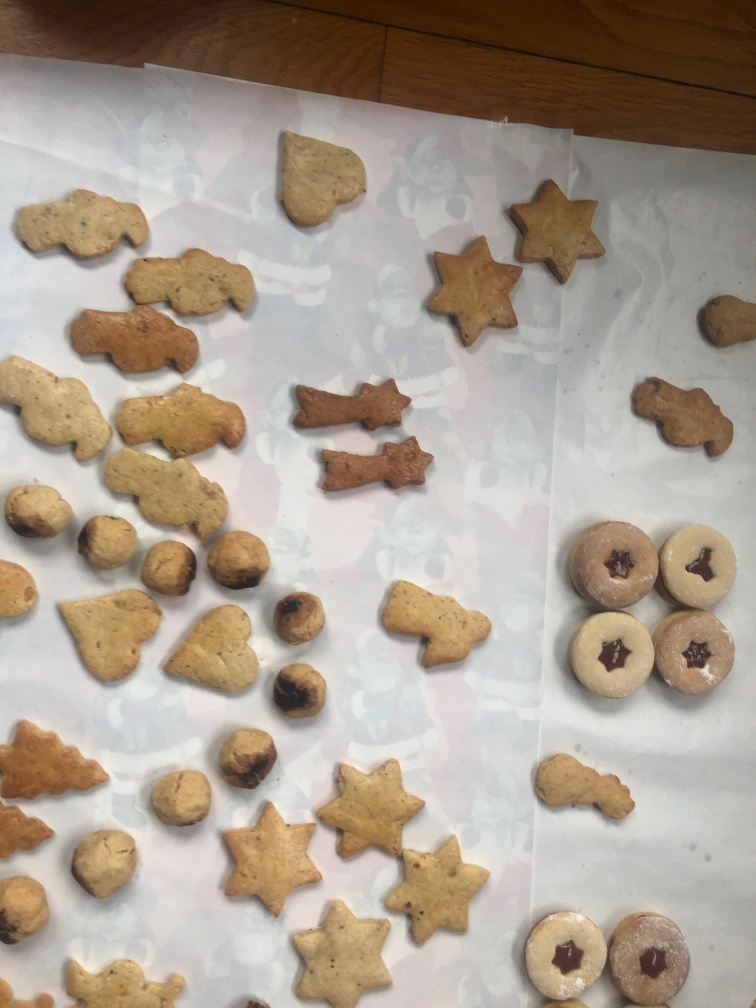angel: (375, 575, 503, 671)
christmas shortbread with jam: (602, 910, 696, 1008), (516, 905, 604, 1005), (565, 606, 656, 699), (567, 513, 654, 610), (654, 604, 740, 701), (658, 520, 739, 611)
christmas tree: (1, 716, 110, 807), (283, 369, 421, 440), (310, 433, 437, 500), (4, 800, 64, 866)
heart: (49, 582, 165, 694), (158, 595, 270, 704), (270, 118, 373, 234)
santa claus: (1, 349, 115, 471), (97, 440, 229, 543), (5, 184, 153, 268), (109, 377, 252, 463), (121, 240, 266, 324), (59, 302, 204, 380), (626, 370, 736, 462), (56, 946, 193, 1008)
snowball: (65, 822, 144, 912), (2, 474, 77, 545), (215, 718, 282, 796), (143, 766, 218, 835), (201, 527, 272, 597), (264, 657, 331, 730), (77, 507, 143, 577), (268, 585, 332, 654), (136, 535, 198, 603), (3, 871, 54, 953)
snowman: (527, 745, 646, 825)
star: (212, 795, 325, 924), (281, 894, 399, 1007), (308, 755, 423, 865), (382, 832, 493, 945), (420, 233, 519, 356), (503, 177, 614, 285)
